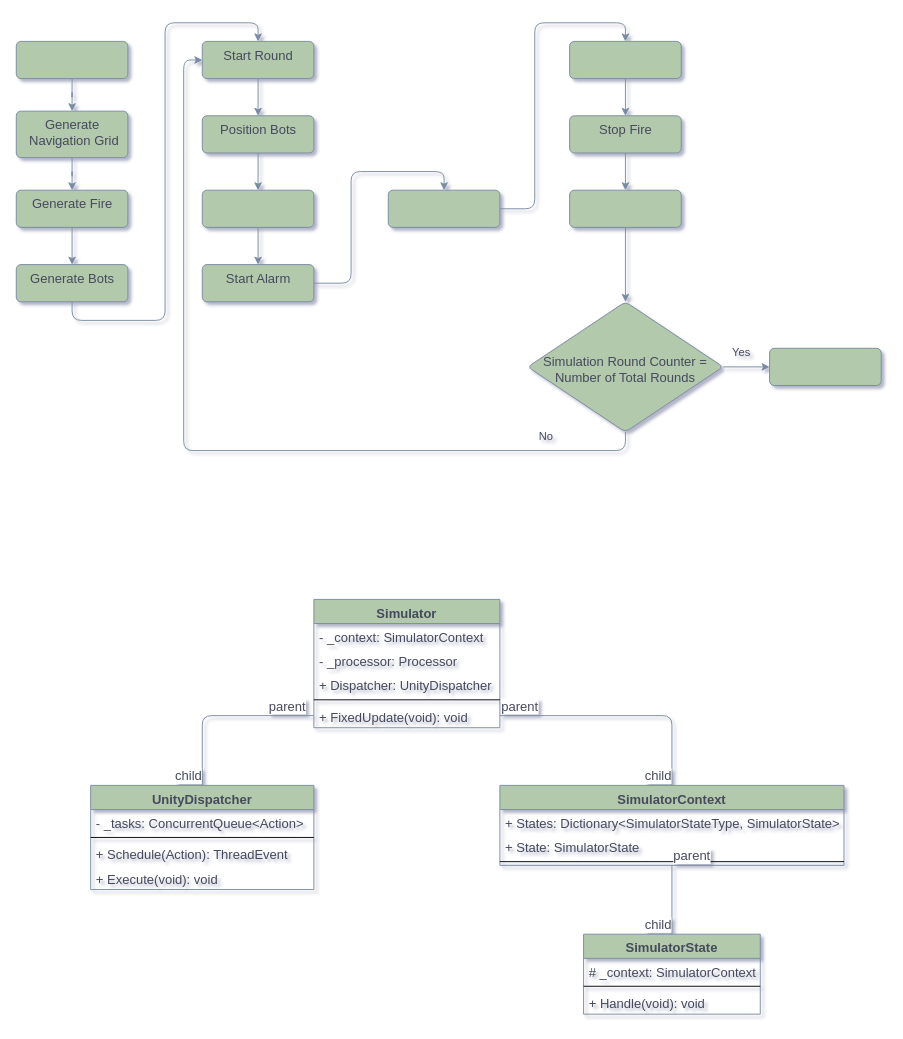
The diagram is 903 pixels wide and 1039 high, and some of its shapes have lost their labels. Each missing label, with the centre of its shape:
Display Stats: the point at 625,59
End: the point at 825,366
Observe Bots: the point at 443,208
Start: the point at 71,59
Start Fire: the point at 257,208
Stop Alarm: the point at 625,208
